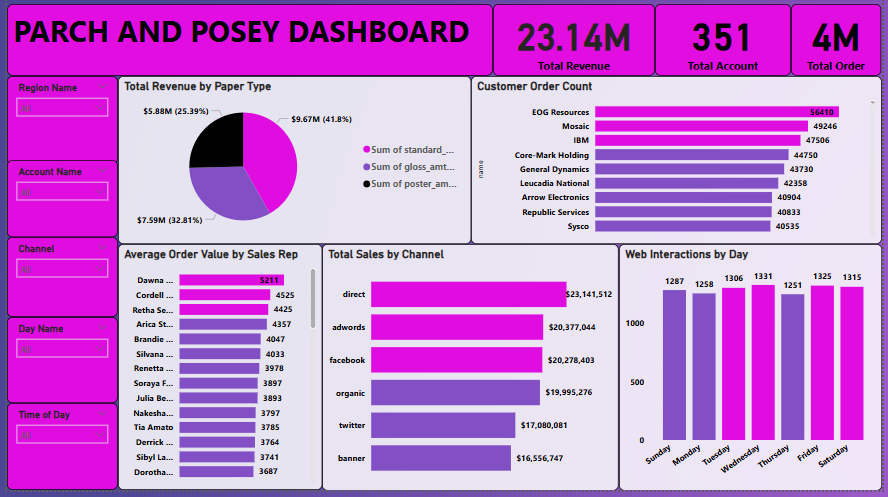

The dashboard page shown, as its layout file describes it:
{"tool":"powerbi","page":{"name":"Page 2","canvas":[1280,720],"ordinal":1},"visuals":[{"type":"pieChart","title":"Total Revenue by Paper Type","fields":{"Y":["Sum(public orders.standard_amt_usd)","Sum(public orders.gloss_amt_usd)","Sum(public orders.poster_amt_usd)"]},"box":[162.4,114.1,516.6,245.9],"z":0},{"type":"clusteredBarChart","title":"Customer Order Count","fields":{"Category":["public accounts.name"],"Y":["public orders.Total Order"]},"box":[679,114.1,601.5,245.9],"z":1000},{"type":"barChart","title":"Total Sales by Channel","fields":{"Category":["public web_events.channel"],"Y":["Sum(public orders.total_amt_usd)"]},"box":[461.5,359.5,434,361.1],"z":2000},{"type":"slicer","fields":{"Values":["public region.name"]},"box":[0,114.1,162.4,130.2],"z":3000},{"type":"slicer","fields":{"Values":["public accounts.name"]},"box":[0,237.1,162.4,112.7],"z":4000},{"type":"clusteredColumnChart","title":"Web Interactions by Day ","fields":{"Category":["public web_events.Day Name"],"Y":["public web_events.Web Interactions"]},"box":[895.4,359.5,385.4,361.1],"z":5000},{"type":"slicer","fields":{"Values":["public web_events.channel"]},"box":[0,349.8,162.4,117.1],"z":6000},{"type":"clusteredBarChart","title":"Average Order Value by Sales Rep","fields":{"Category":["public sales_reps.Name"],"Y":["public orders.Average Order Value"]},"box":[162.4,360,298.5,360],"z":7000},{"type":"slicer","fields":{"Values":["public web_events.Day Name"]},"box":[0,466.8,162.4,125.9],"z":8000},{"type":"slicer","fields":{"Values":["public web_events.Time of Day"]},"box":[0,592.7,162.4,127.3],"z":9000},{"type":"card","fields":{"Values":["public orders.Total Order"]},"box":[1147.3,8.8,131.7,105.4],"z":10000},{"type":"card","fields":{"Values":["public accounts.Total Account"]},"box":[948.3,8.8,199,105.4],"z":11000},{"type":"card","fields":{"Values":["public orders.Total Revenue"]},"box":[711.2,8.8,237.1,105.4],"z":12000},{"type":"textbox","box":[0,8.8,711.2,105.4],"z":13000}]}

Visuals, with their boxes in screenshot pixels (x1, y1, x2, y2), scaled from the page's 1280x720 canvas onto the 888x497 screenshot:
"Total Revenue by Paper Type" pieChart: 113, 79, 471, 248
"Customer Order Count" clusteredBarChart: 471, 79, 887, 248
"Total Sales by Channel" barChart: 320, 248, 621, 496
slicer - public region.name: 0, 79, 113, 169
slicer - public accounts.name: 0, 164, 113, 241
"Web Interactions by Day " clusteredColumnChart: 621, 248, 887, 496
slicer - public web_events.channel: 0, 241, 113, 322
"Average Order Value by Sales Rep" clusteredBarChart: 113, 248, 320, 496
slicer - public web_events.Day Name: 0, 322, 113, 409
slicer - public web_events.Time of Day: 0, 409, 113, 496
card - public orders.Total Order: 796, 6, 887, 79
card - public accounts.Total Account: 658, 6, 796, 79
card - public orders.Total Revenue: 493, 6, 658, 79
textbox: 0, 6, 493, 79
